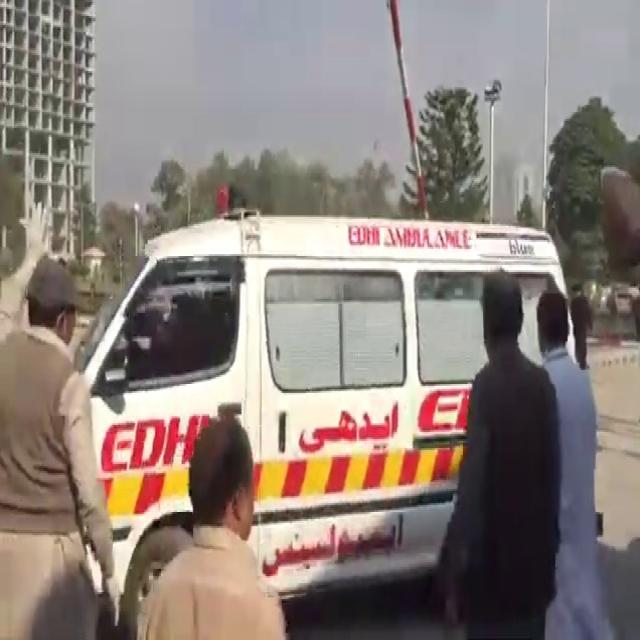ambulance: (71, 208, 614, 592)
